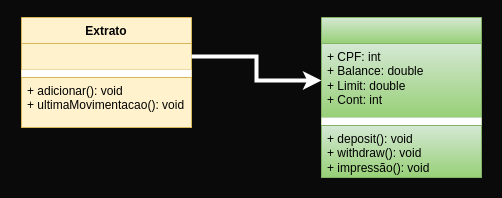
The diagram is 502 pixels wide and 198 high, and some of its shapes have lost their labels. Here are the shapes that lost their labels. From the top down, the box of each, then its label:
(20, 42, 192, 70): + stack<>: string
(320, 16, 482, 178): Account
